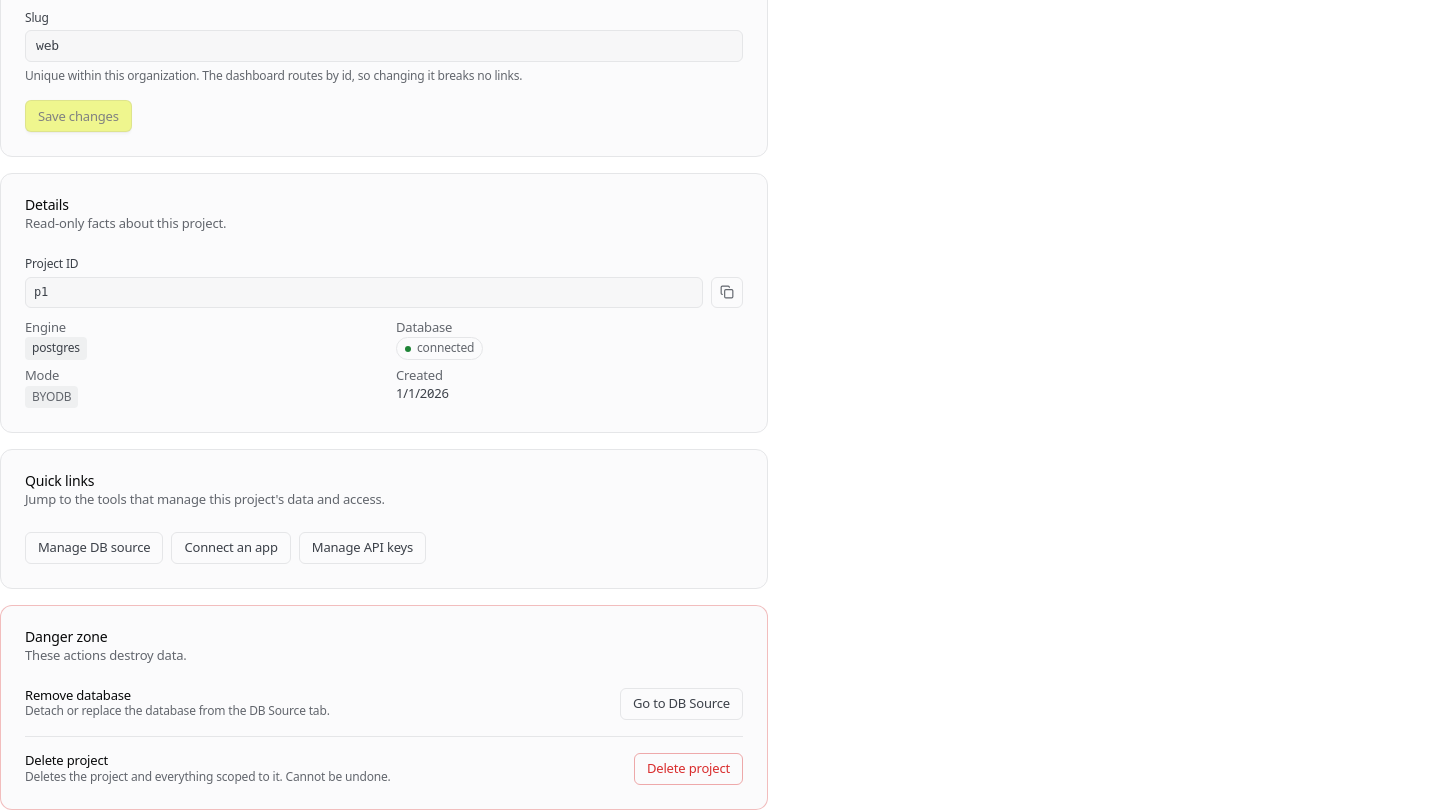
it: ProjectSettingsPanel › tells a BYODB user their own database is left alone
(page scrolled)
What coordinates should you click on to do the following:
click the button "Delete project"
I would click on:
 (688, 769)
Its box is [634, 753, 743, 785].
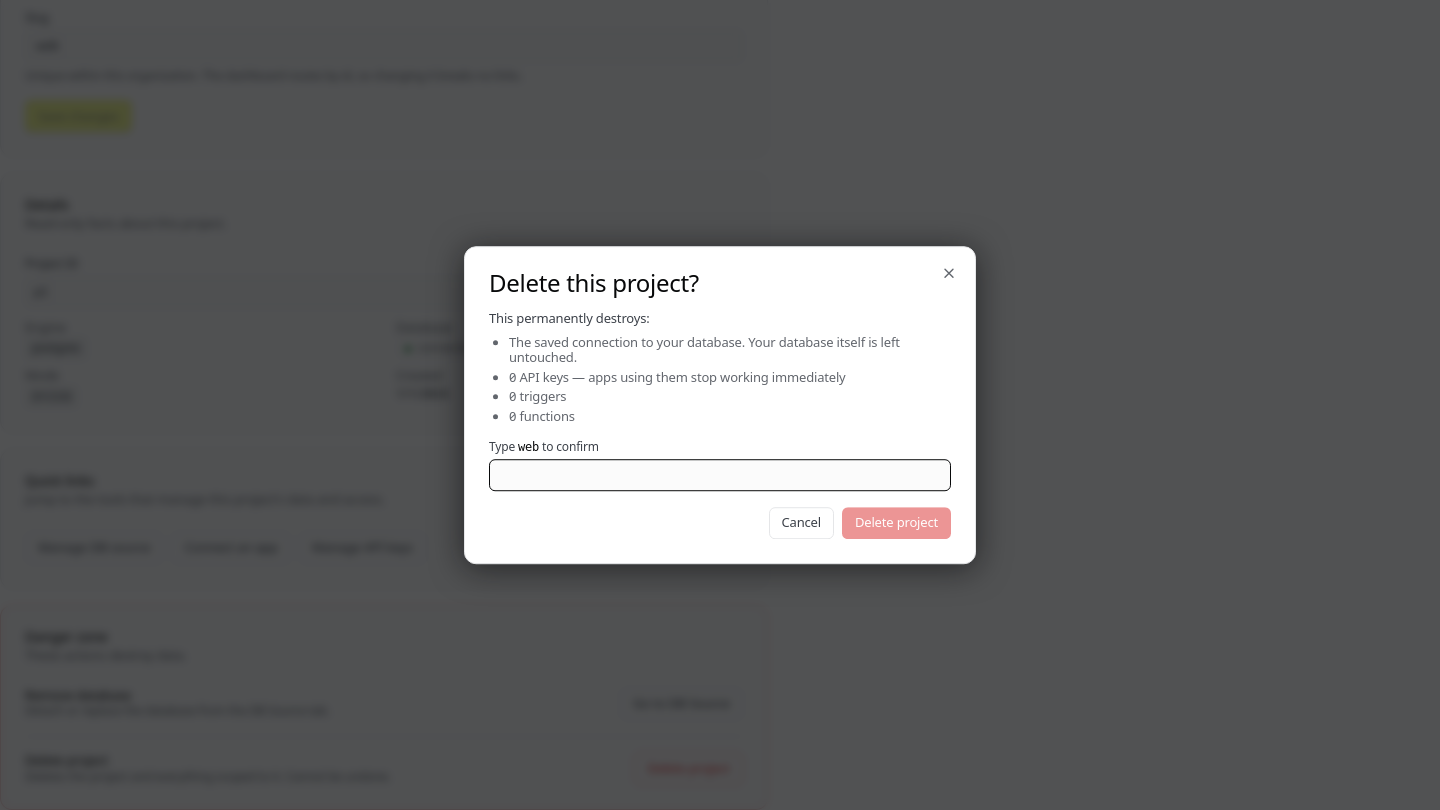
Expected: the list item "Your database itself is left untouched" is shown, [509, 333, 900, 366]
